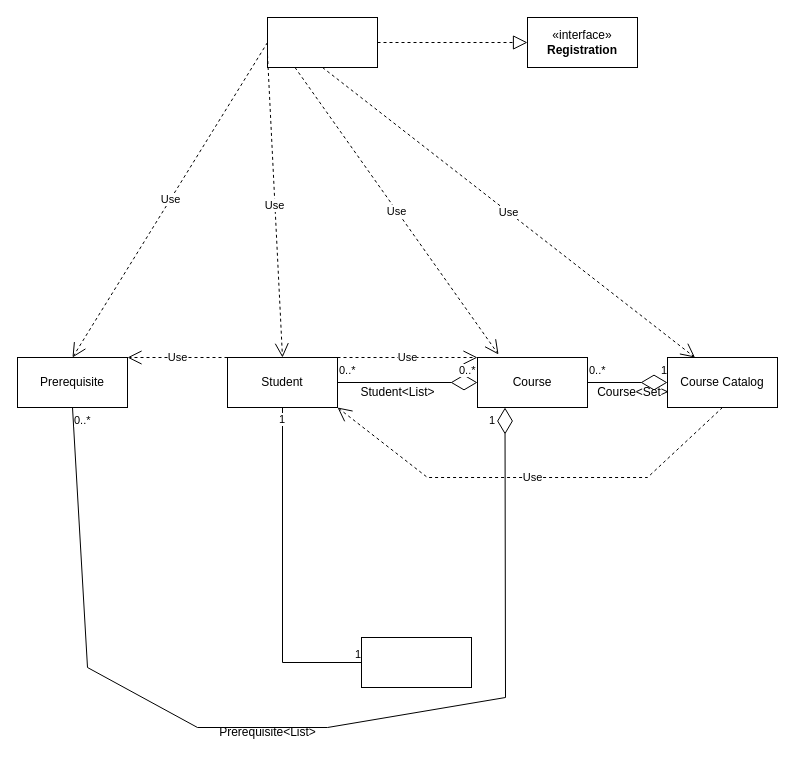
Some shapes in this 795 by 771 pixel diagram are drawn without their labels. The centre of each missing label's shape, as x and y in pixels:
"Registrationlmpl" belongs at point 322,42.
"Transcript" belongs at point 416,662.
